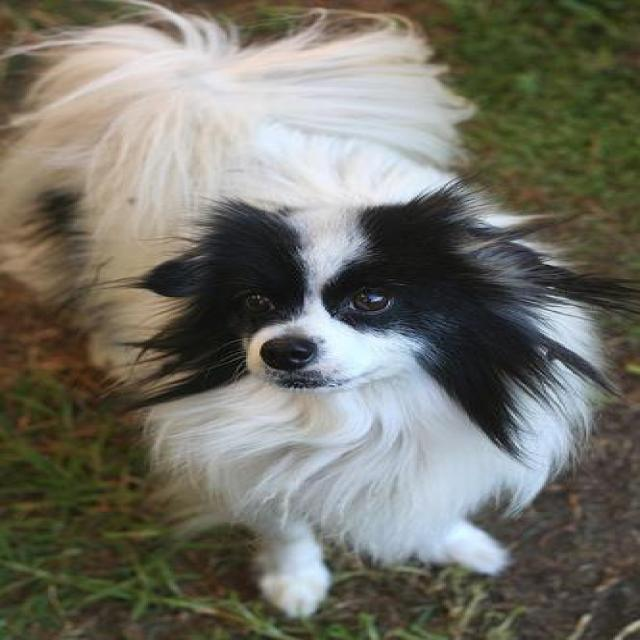papillon: (0, 1, 632, 618)
